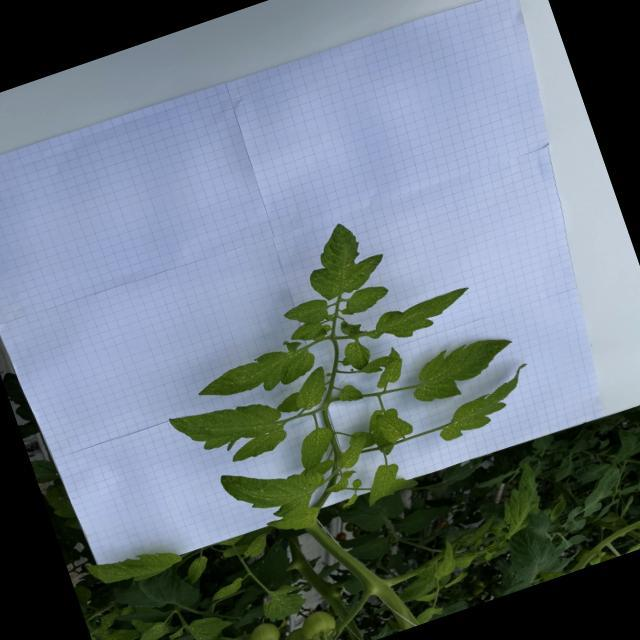Tomato target spot leaf: (168, 382, 292, 480), (191, 332, 321, 413), (218, 443, 332, 532), (402, 328, 523, 410), (427, 362, 542, 442), (294, 212, 392, 304), (362, 283, 478, 349), (84, 534, 185, 596), (490, 482, 548, 542), (256, 576, 316, 626), (174, 606, 252, 640), (357, 459, 408, 507), (292, 424, 341, 472), (288, 365, 336, 413), (280, 294, 332, 333), (266, 504, 324, 538), (366, 344, 408, 390), (342, 280, 392, 317), (374, 405, 416, 447), (332, 432, 374, 472), (91, 618, 161, 640), (287, 317, 326, 346), (342, 337, 374, 372), (206, 576, 246, 602), (240, 530, 272, 560), (182, 554, 213, 584), (130, 619, 172, 640), (274, 391, 306, 416), (335, 381, 364, 406), (322, 476, 350, 496)
